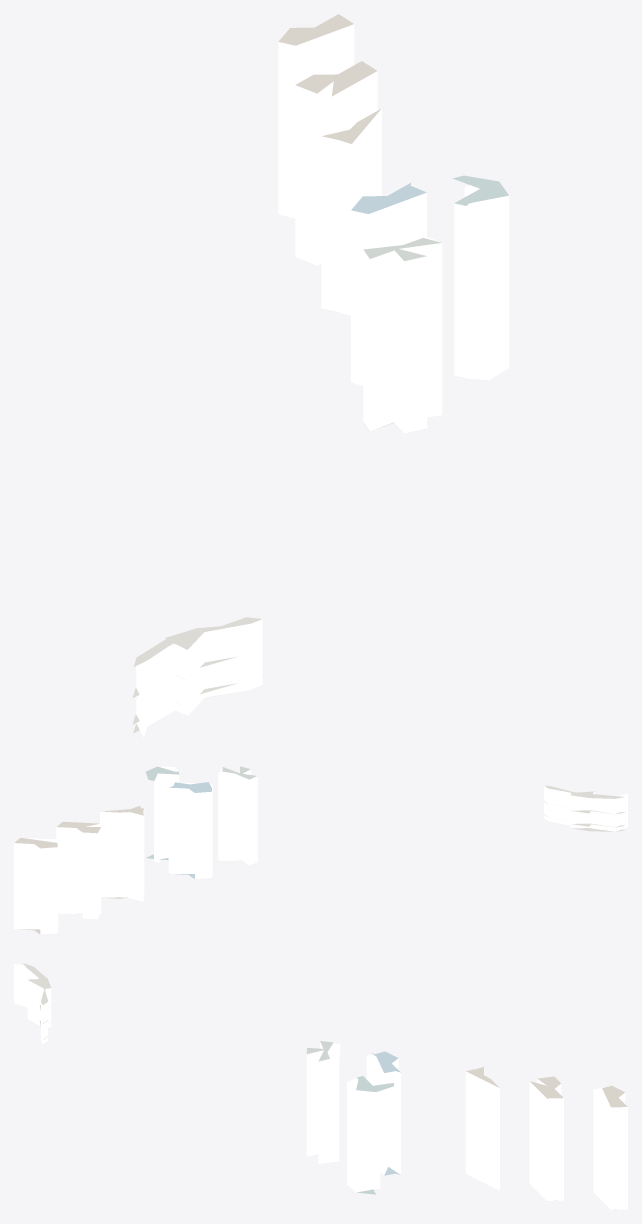
The model's file is buildings--1_3-coarse.glb.
3 views of the same model, one above another, from view 1: azimuth 30°, elevation 25°; view 2: azimuth 150°, elevation 25°; view 3: azimuth 270°, elevation 25° (orthographic). The views are drawn at different scales.
Parts seen in each view (by area): view 1: block_-1_3_office, block_-1_3_residential, block_-1_3_roof; view 2: block_-1_3_office, block_-1_3_residential, block_-1_3_roof; view 3: block_-1_3_office, block_-1_3_roof, block_-1_3_residential.
Part boxes in pixels (bbox=[...]): block_-1_3_office: bbox=[278, 24, 509, 433]; block_-1_3_residential: bbox=[136, 619, 262, 737]; block_-1_3_roof: bbox=[132, 14, 508, 733]; block_-1_3_office: bbox=[14, 766, 257, 934]; block_-1_3_residential: bbox=[544, 785, 627, 831]; block_-1_3_roof: bbox=[14, 766, 625, 934]; block_-1_3_office: bbox=[306, 1041, 627, 1209]; block_-1_3_roof: bbox=[23, 963, 627, 1209]; block_-1_3_residential: bbox=[14, 964, 51, 1044].
Size of the model in its own units: 226 by 53.84 by 282.
